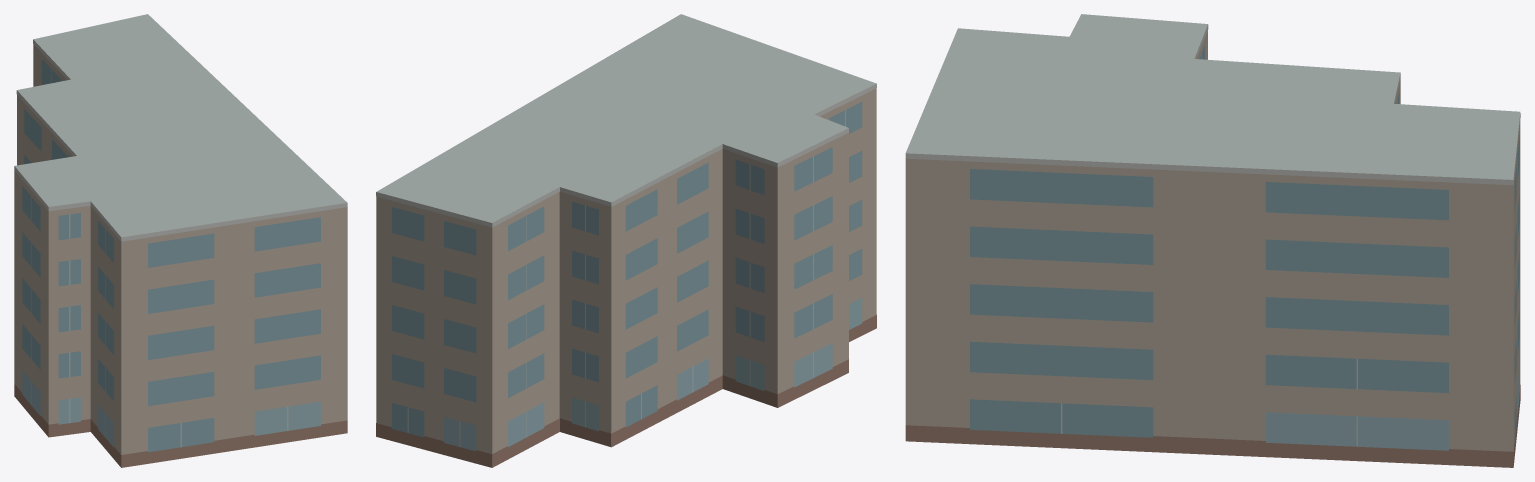
The model's file is survey-upis-32580635.glb.
3 views of the same model, side by side, from view 1: azimuth 30°, elevation 25°; view 2: azimuth 150°, elevation 25°; view 3: azimuth 270°, elevation 25° (orthographic). The views are drawn at different scales.
Visible parts, largest first — view 1: survey-upis-32580635.tmp; view 2: survey-upis-32580635.tmp; view 3: survey-upis-32580635.tmp.
Part boxes in pixels (x1,y1,x2,y2): survey-upis-32580635.tmp: (14,14,347,467); survey-upis-32580635.tmp: (376,14,876,467); survey-upis-32580635.tmp: (905,14,1520,467).
Size of the model in its own units: 16.32 by 13.2 by 25.56.
